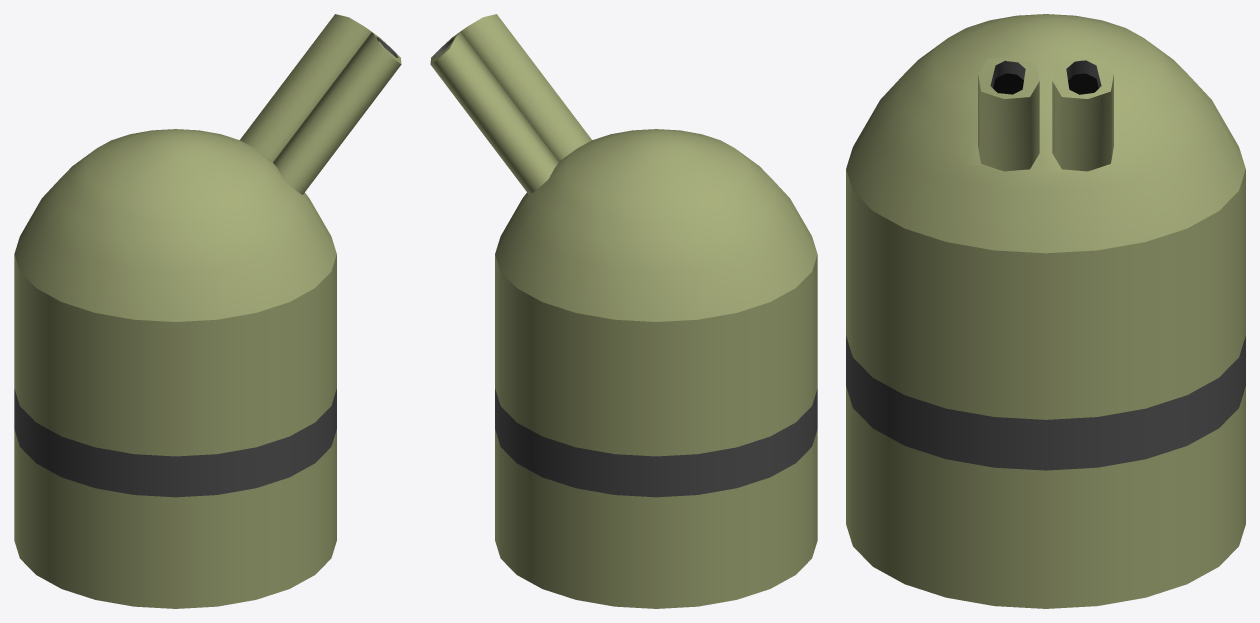
File: Anti-Air Turret.fbx
The picture shows the model from 3 angles, left to right: view 1: azimuth 30°, elevation 25°; view 2: azimuth 150°, elevation 25°; view 3: azimuth 270°, elevation 25°; orthographic projection. The views are drawn at different scales.
Visible parts, largest first — view 1: AA Turret Top, AA Turret Base; view 2: AA Turret Top, AA Turret Base; view 3: AA Turret Top, AA Turret Base.
Boxes of the visible parts, bbox=[...] form: AA Turret Top: bbox=[14, 14, 401, 497]; AA Turret Base: bbox=[14, 429, 336, 608]; AA Turret Top: bbox=[430, 14, 817, 497]; AA Turret Base: bbox=[495, 429, 817, 608]; AA Turret Top: bbox=[846, 14, 1245, 470]; AA Turret Base: bbox=[846, 386, 1245, 608].
Bounding box in the file's own units: 250 × 320 × 200.
